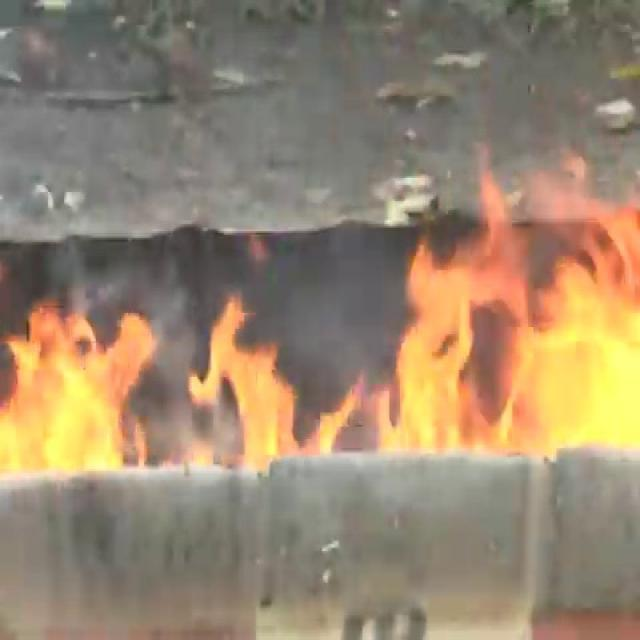Fire: (373, 154, 640, 465), (0, 290, 159, 487), (181, 274, 331, 471)
